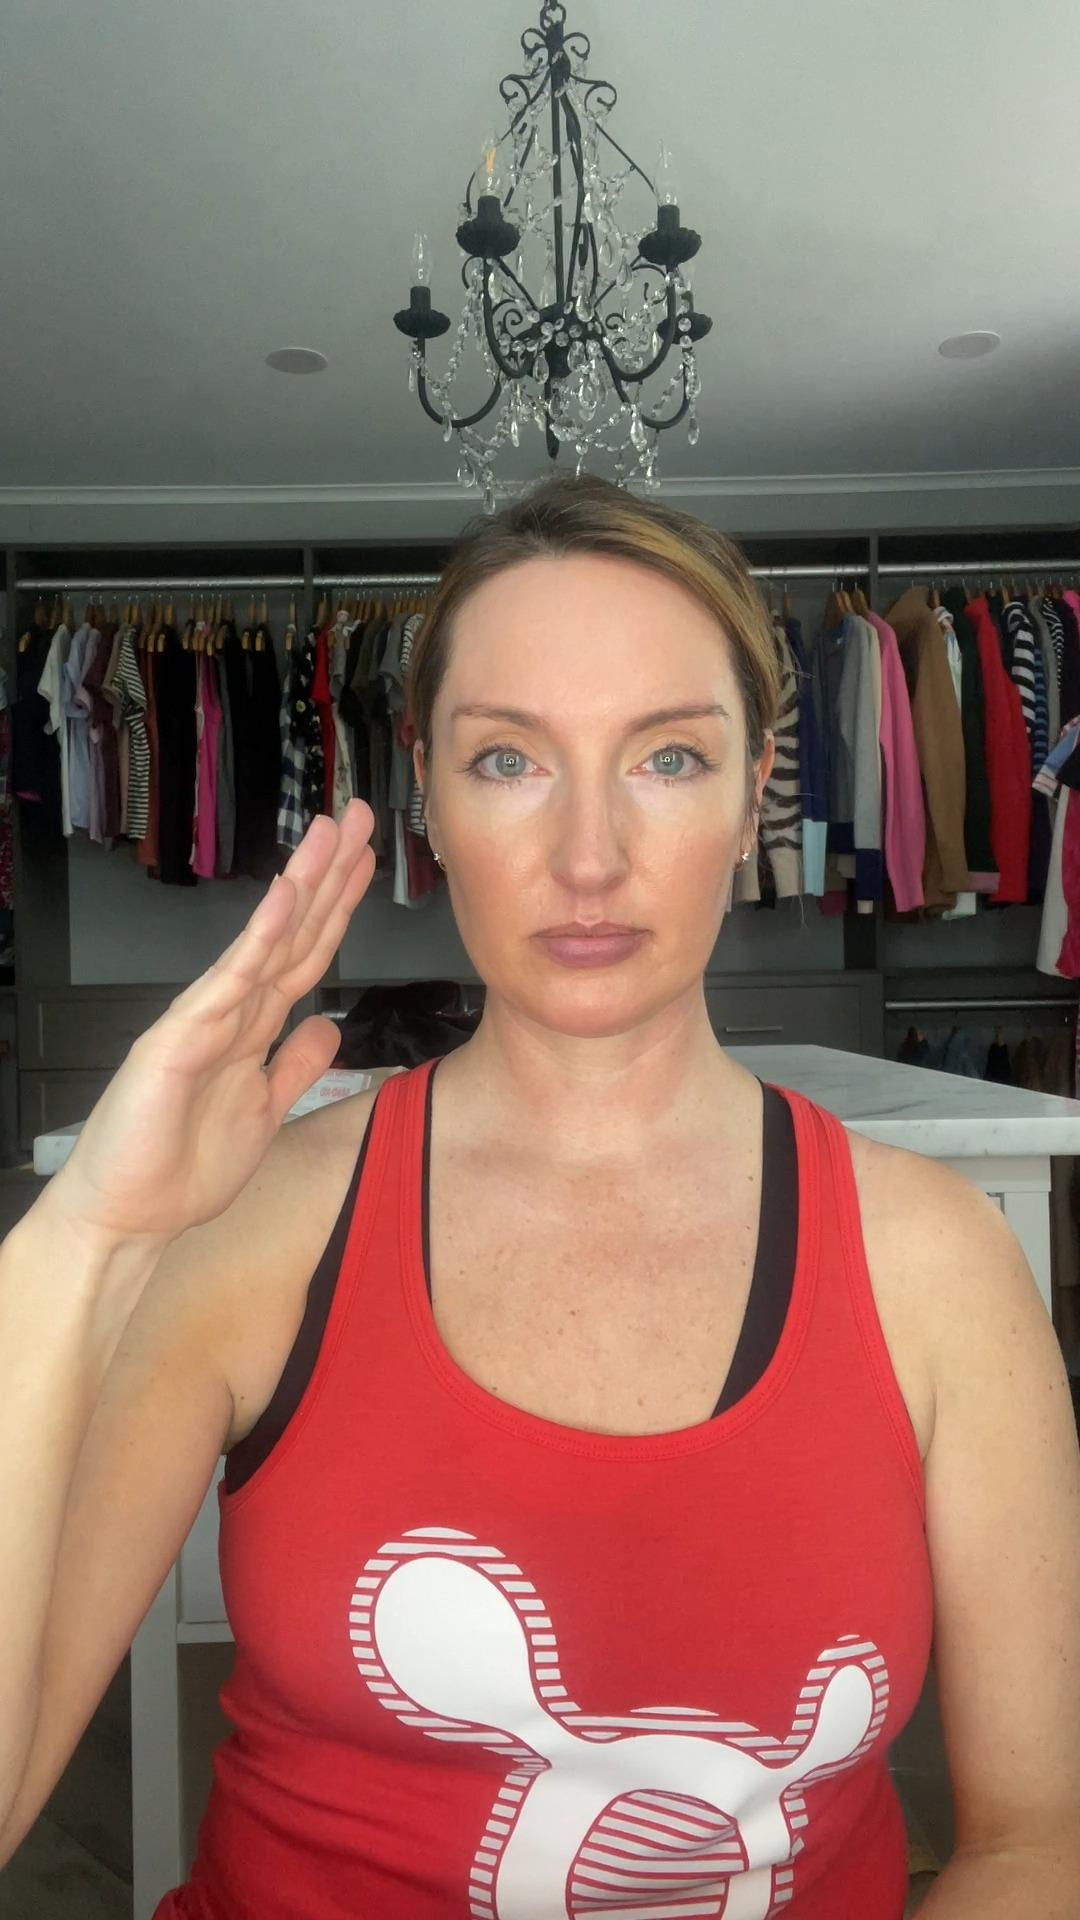Paper: (63, 790, 386, 1253)
